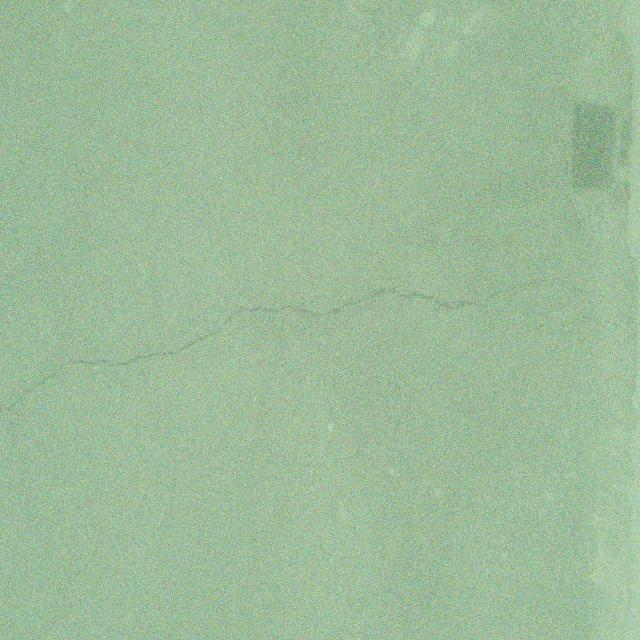crack: (0, 276, 627, 411)
